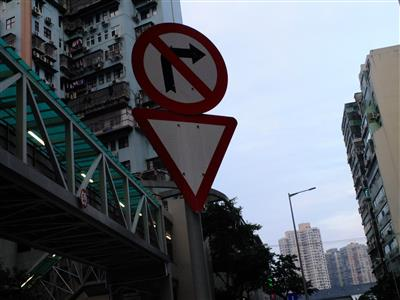5mHeightLimit: (78, 186, 89, 208)
noRightTurn: (130, 21, 229, 113)
yield: (129, 103, 238, 215)
